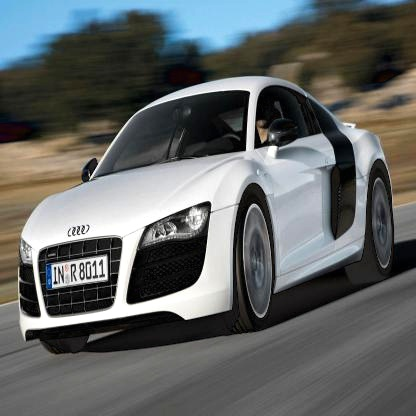Vehicle: (19, 74, 393, 356)
